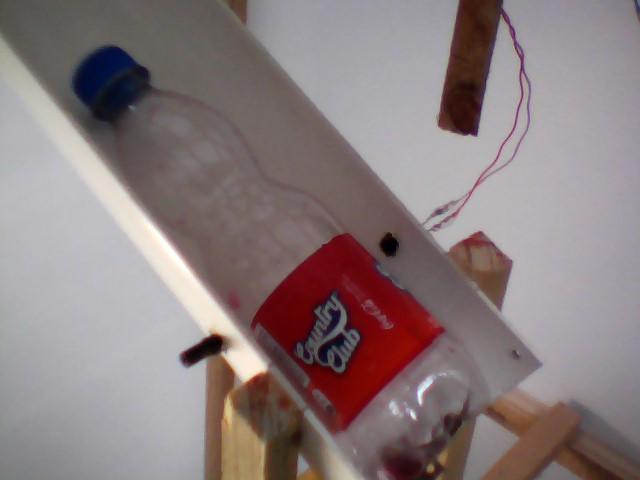plastico: (64, 35, 514, 480)
